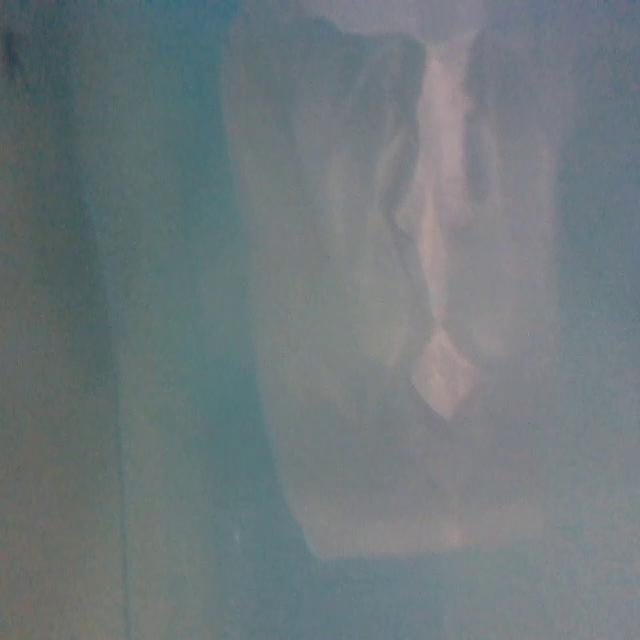plastic bags: (221, 5, 609, 560)
